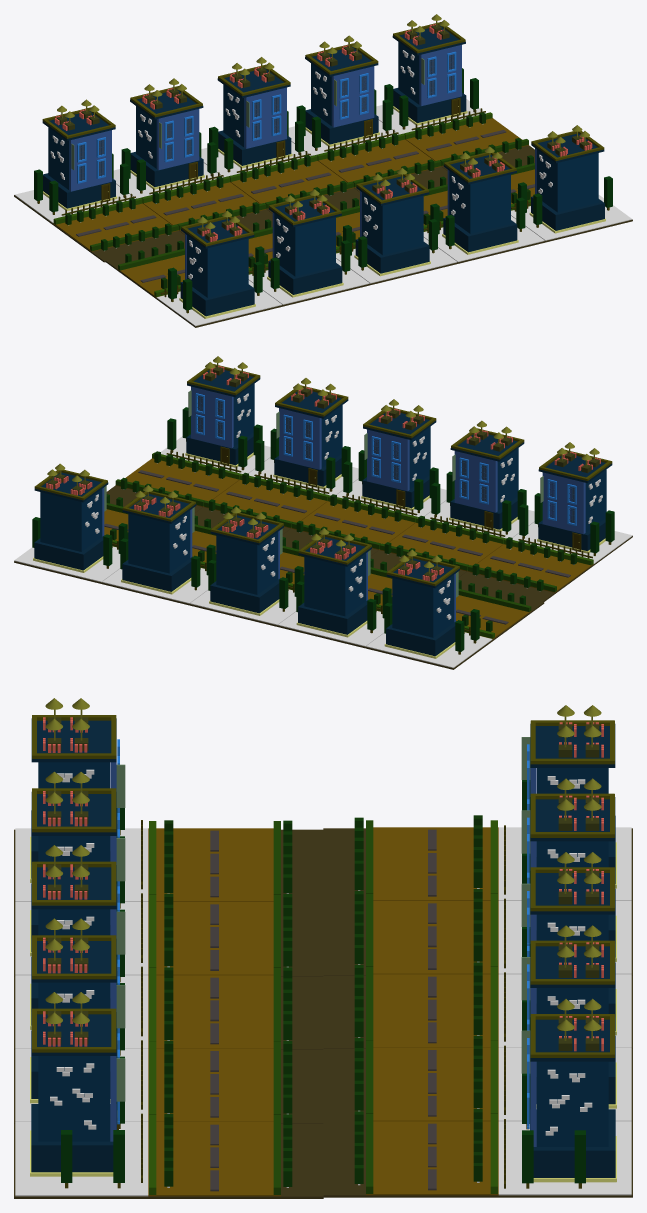
The model's file is building.gltf.
3 renders of one model, top to bottom at view 1: azimuth 30°, elevation 25°; view 2: azimuth 150°, elevation 25°; view 3: azimuth 270°, elevation 25°, orthographic. The views are drawn at different scales.
Parts seen in each view (by area): view 1: Cube.177, Cube.236, Cube.531, Cube.295, Cube.472, Cube.118, Cube.413, Cube, Cube.004, Cube.354, Cube.003, Cube.121 (+53 smaller); view 2: Cube.004, Cube.413, Cube.354, Cube.118, Cube, Cube.295, Cube.236, Cube.531, Cube.472, Cube.177, Cube.298, Cube.180 (+56 smaller); view 3: Cube.472, Cube.413, Cube.416, Cube.475, Cube.357, Cube.298, Cube.003, Cube.121, Cube.180, Cube.008, Cube.534, Cube.239 (+60 smaller).
Boxes of the visible parts, x1,y1,x2,y2 form: Cube.177: (355,176,429,273); Cube.236: (268,197,342,294); Cube.531: (443,154,517,252); Cube.295: (180,218,254,316); Cube.472: (531,133,604,230); Cube.118: (217,68,291,165); Cube.413: (392,25,466,123); Cube: (42,111,115,208); Cube.004: (130,89,203,187); Cube.354: (305,47,378,144); Cube.003: (53,203,178,251); Cube.121: (230,161,353,209); Cube.004: (298,537,371,634); Cube.413: (34,472,108,570); Cube.354: (122,494,196,591); Cube.118: (210,515,283,613); Cube: (386,558,459,656); Cube.295: (538,456,612,551); Cube.236: (450,434,524,529); Cube.531: (274,391,348,486); Cube.472: (186,370,260,465); Cube.177: (362,413,436,508); Cube.298: (467,544,593,592); Cube.180: (291,501,415,549); Cube.472: (31,1012,116,1172); Cube.413: (530,1017,615,1177); Cube.416: (366,1121,498,1195); Cube.475: (148,1122,280,1196); Cube.357: (373,1047,498,1121); Cube.298: (148,828,273,901); Cube.003: (373,827,498,900); Cube.121: (373,974,498,1047); Cube.180: (148,975,273,1048); Cube.008: (373,901,498,974); Cube.534: (148,1048,273,1121); Cube.239: (148,902,273,975).
Size of what is drawn, in the model's own units: 197 by 38.89 by 140.
